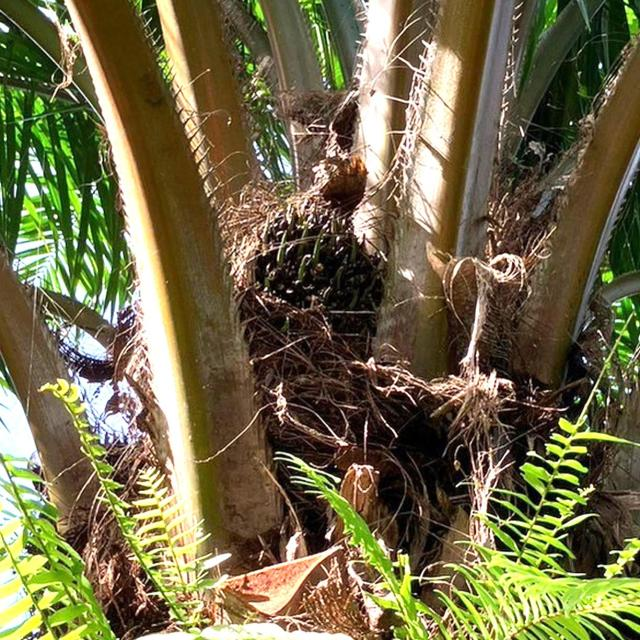unripe: (222, 194, 390, 382)
